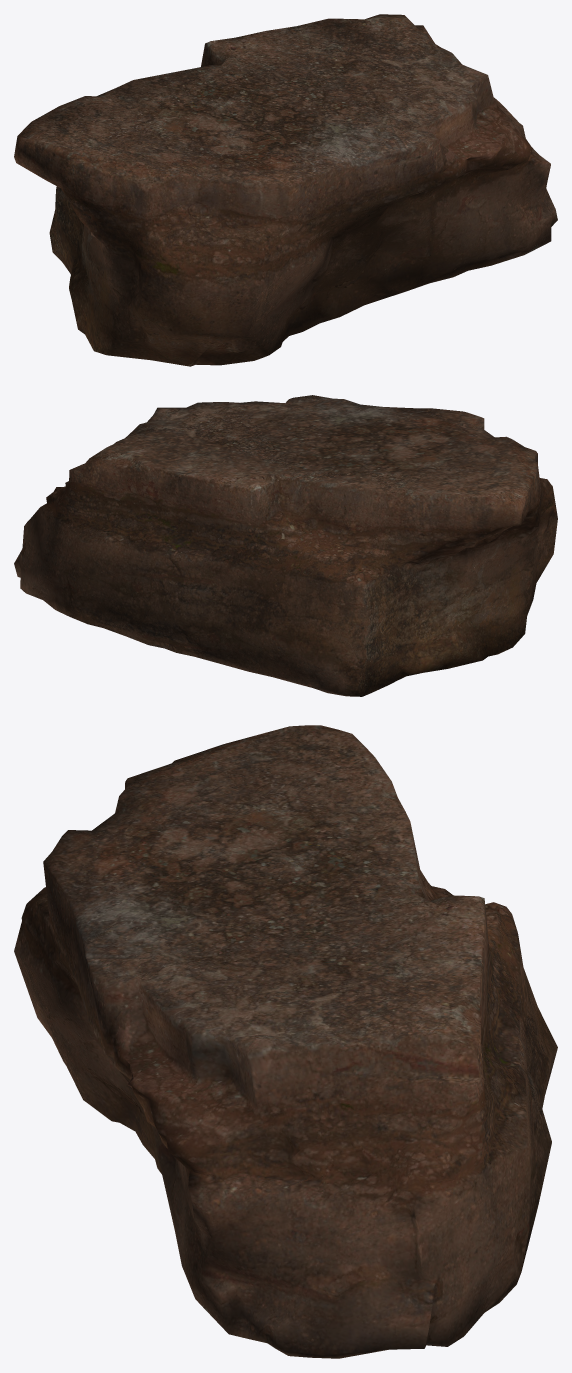
The model's file is limestone_slab_ubxbadpda_low.glb.
3 renders of one model, top to bottom at view 1: azimuth 30°, elevation 25°; view 2: azimuth 150°, elevation 25°; view 3: azimuth 270°, elevation 25°, orthographic. The views are drawn at different scales.
Visible parts, largest first — view 1: ubxbadpda_LOD0_TIER3_000; view 2: ubxbadpda_LOD0_TIER3_000; view 3: ubxbadpda_LOD0_TIER3_000.
Part boxes in pixels (box(x1,y1,x2,y2)): ubxbadpda_LOD0_TIER3_000: box(14, 14, 557, 366); ubxbadpda_LOD0_TIER3_000: box(14, 395, 557, 696); ubxbadpda_LOD0_TIER3_000: box(14, 725, 557, 1358).
Bounding box in the file's own units: 2.22 × 0.8327 × 1.41.
1 material, 1 textured.
